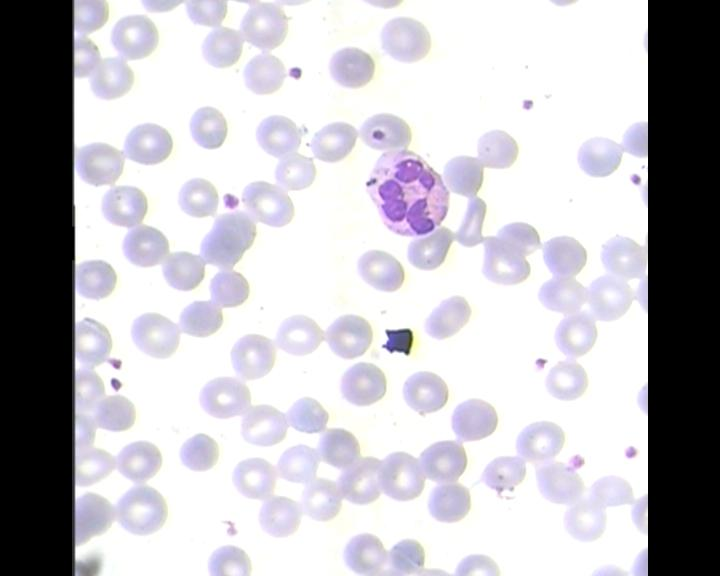neut: (360, 147, 455, 238)
